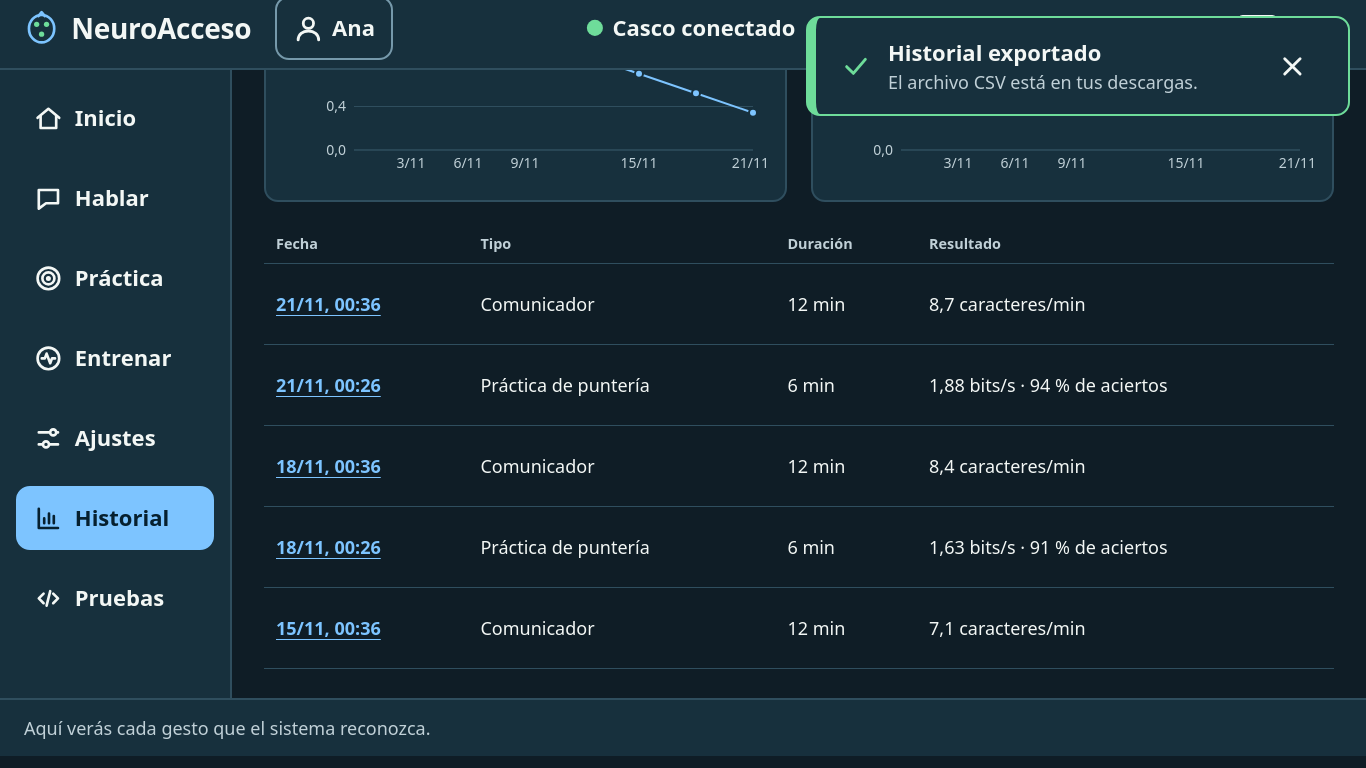
Test: historial › el detalle de una sesión muestra sus métricas
(page scrolled)
Step 1. Click the link "21/11, 00:26" → [328, 385], box [276,373,381,397]
(page scrolled)
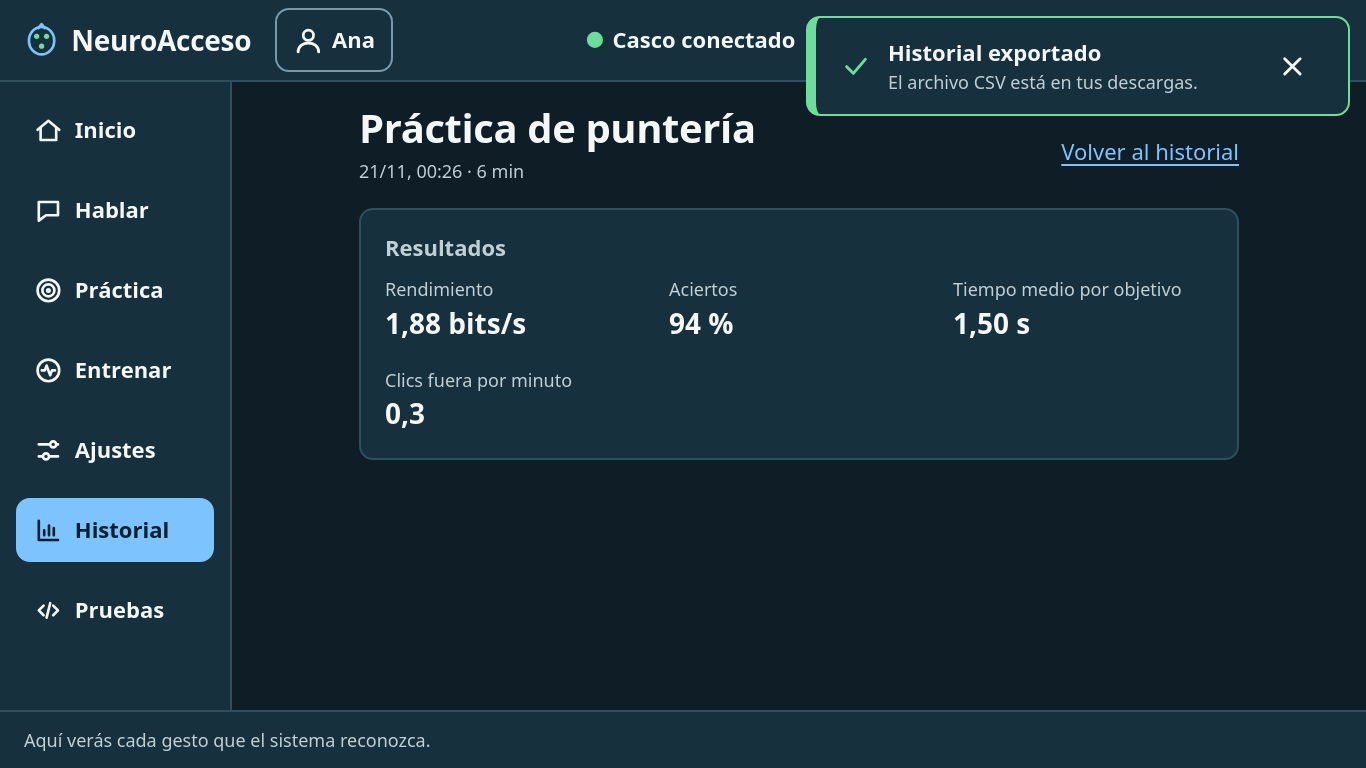
Expected: the heading "Práctica de puntería" is shown, [359,106,756,150]
Now the text "Rendimiento" is shown, box [385,278,493,302]
